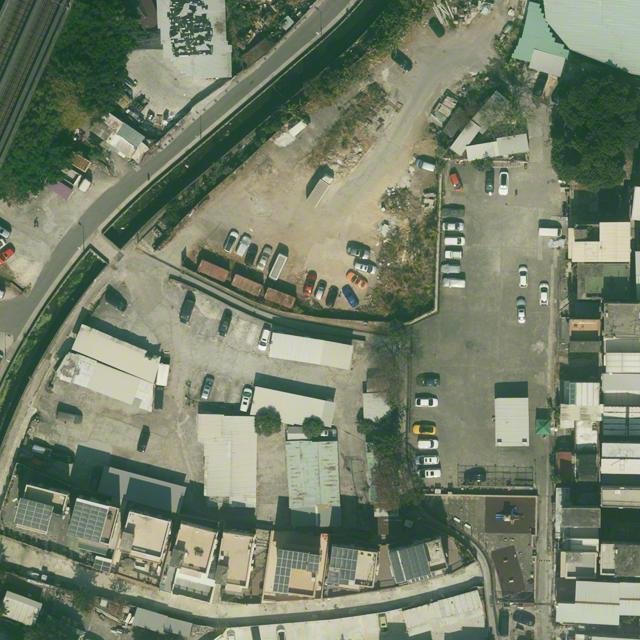panel: (272, 548, 319, 594), (67, 501, 108, 543), (388, 544, 431, 583), (14, 498, 53, 531), (330, 547, 359, 582), (93, 559, 111, 574)
